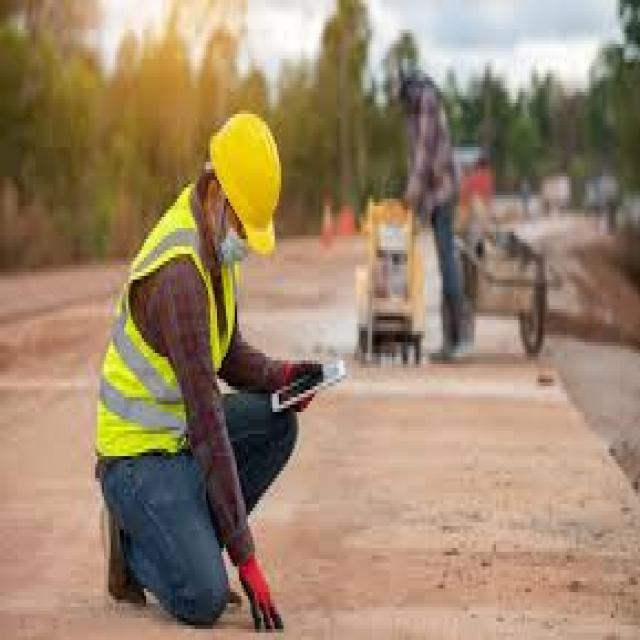reflective_jacket: (80, 191, 246, 474)
safety_helmet: (201, 106, 287, 261)
